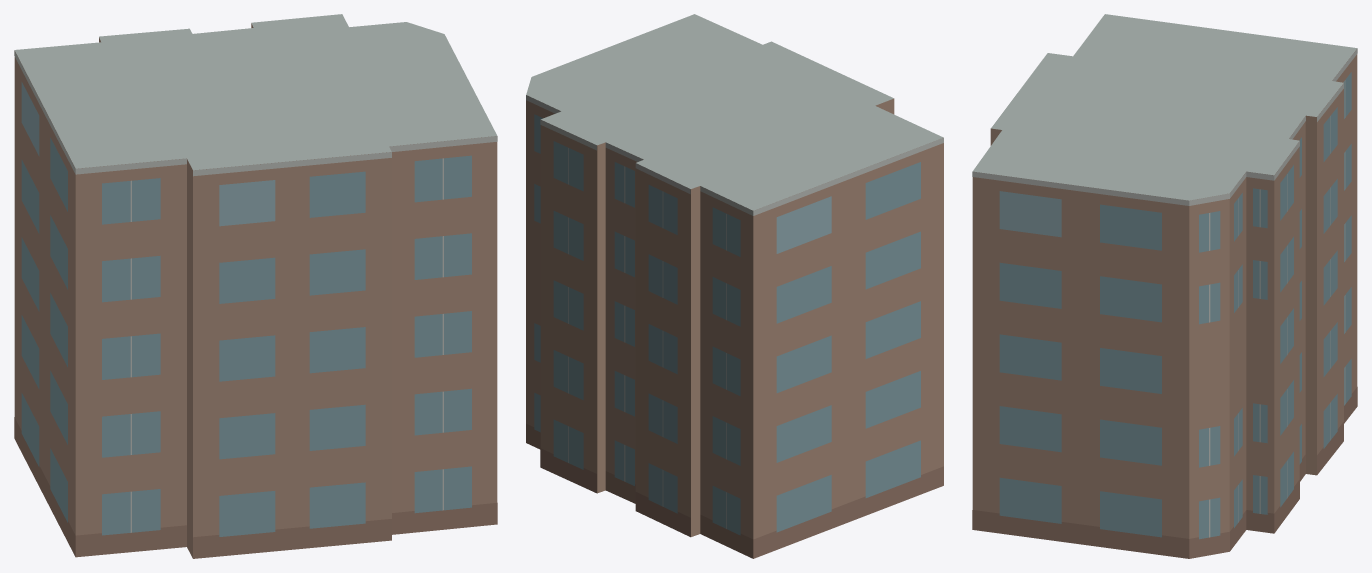
The model's file is survey-upis-32579351.glb.
3 renders of one model, left to right at view 1: azimuth 30°, elevation 25°; view 2: azimuth 150°, elevation 25°; view 3: azimuth 270°, elevation 25°, orthographic. The views are drawn at different scales.
Parts seen in each view (by area): view 1: survey-upis-32579351.tmp; view 2: survey-upis-32579351.tmp; view 3: survey-upis-32579351.tmp.
Part boxes in pixels (x1,y1,x2,y2): survey-upis-32579351.tmp: (14,14,497,558); survey-upis-32579351.tmp: (526,14,943,558); survey-upis-32579351.tmp: (972,14,1357,558).
Size of the model in its own units: 17.93 by 16.05 by 15.64.
